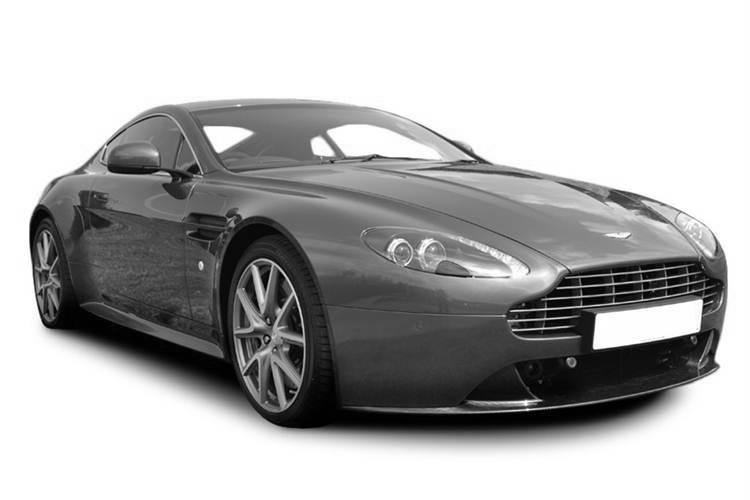car: (29, 96, 728, 427)
